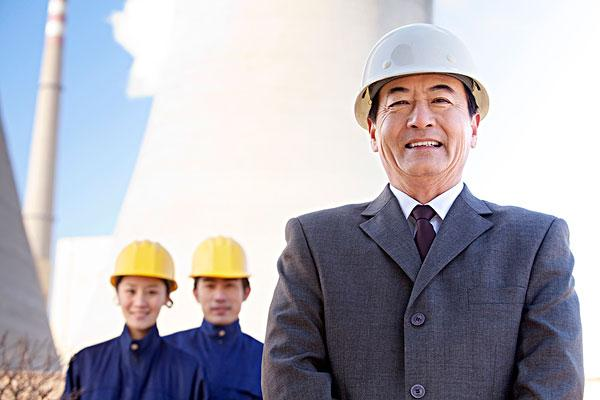helmet: (354, 23, 495, 114), (110, 240, 178, 287), (190, 236, 250, 279)
